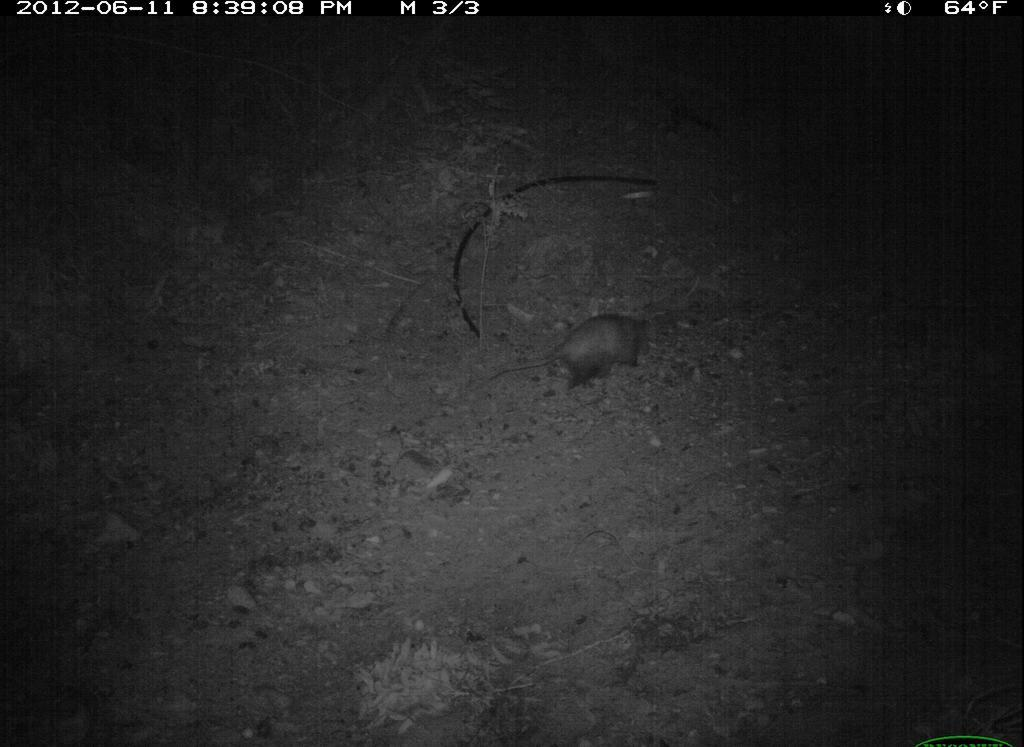opossum: (455, 308, 675, 409)
